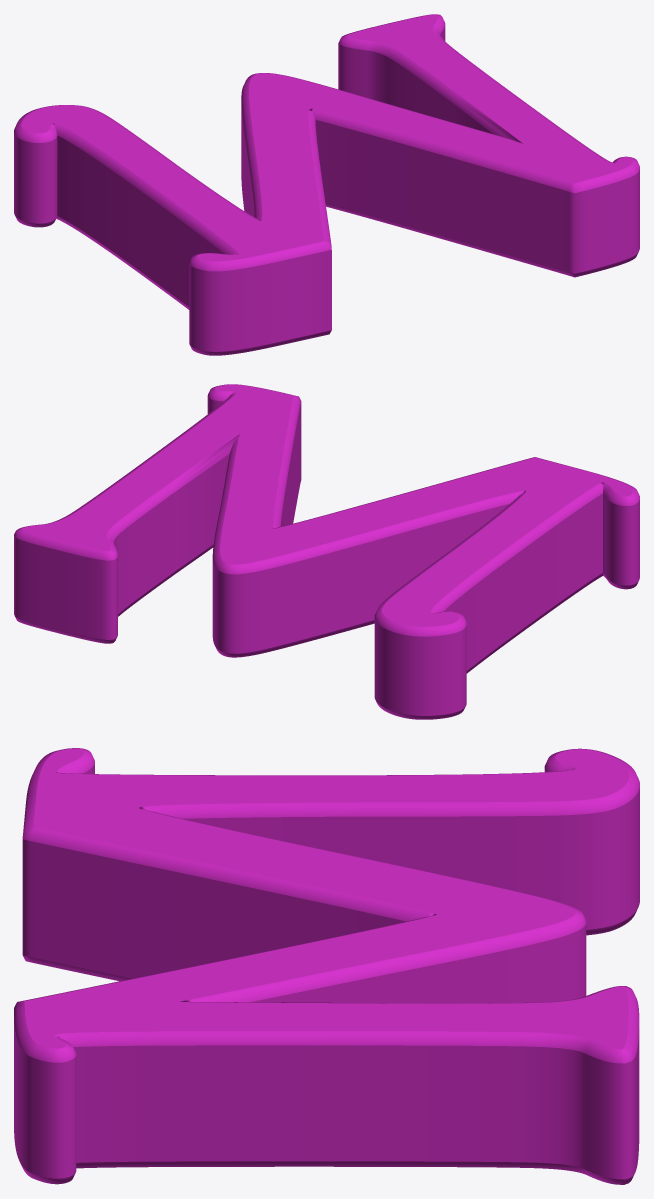
The model's file is Letter_M.fbx.
3 views of the same model, one above another, from view 1: azimuth 30°, elevation 25°; view 2: azimuth 150°, elevation 25°; view 3: azimuth 270°, elevation 25° (orthographic). The views are drawn at different scales.
Visible parts, largest first — view 1: Letter_M; view 2: Letter_M; view 3: Letter_M.
Part boxes in pixels (<box>): Letter_M: <box>14,14,639,355</box>; Letter_M: <box>14,384,639,719</box>; Letter_M: <box>14,748,639,1184</box>.
Bounding box in the file's own units: 0.6882 × 0.14 × 0.5872.
